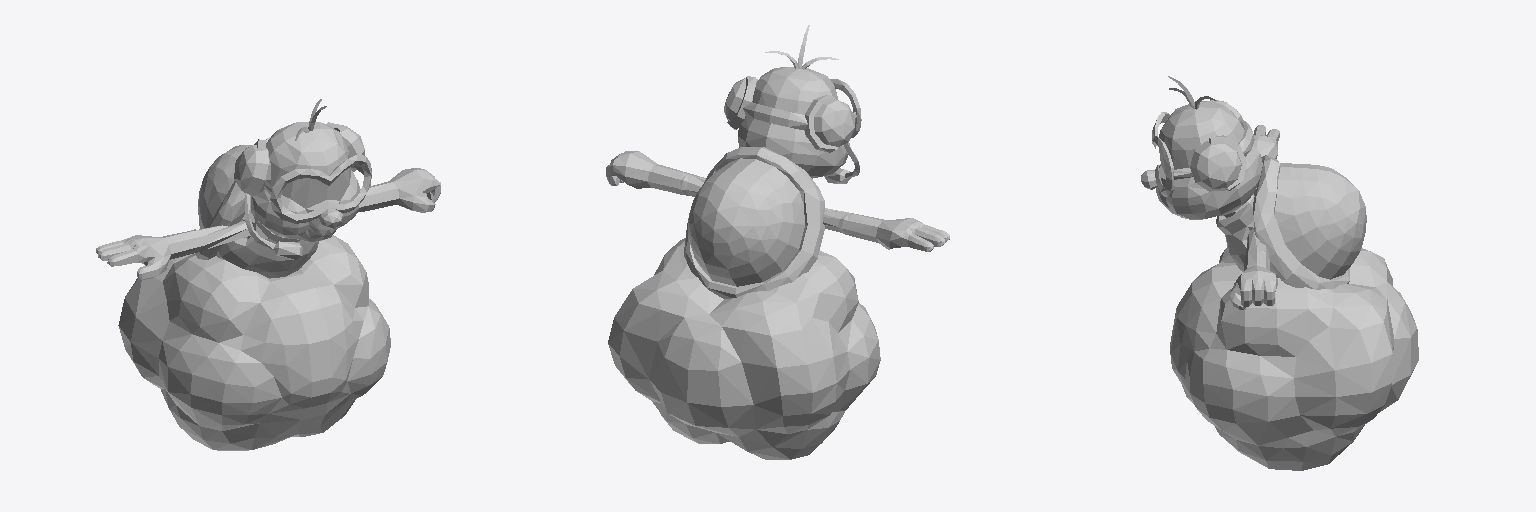
File: REFEREE.OBJ
3 renders of one model, left to right at view 1: azimuth 30°, elevation 25°; view 2: azimuth 150°, elevation 25°; view 3: azimuth 270°, elevation 25°, orthographic.
Parts seen in each view (by area): view 1: JugemObj__m_JugemObj, JugemObj__m_JugemObjFace; view 2: JugemObj__m_JugemObj; view 3: JugemObj__m_JugemObj, JugemObj__m_JugemObjFace.
Part boxes in pixels (x1,y1,x2,y2): JugemObj__m_JugemObj: (96, 99, 440, 450); JugemObj__m_JugemObjFace: (251, 155, 359, 242); JugemObj__m_JugemObj: (606, 25, 949, 459); JugemObj__m_JugemObj: (1141, 76, 1418, 470); JugemObj__m_JugemObjFace: (1156, 148, 1232, 219).
Size of the model in its own units: 1.92 by 2.05 by 1.38.